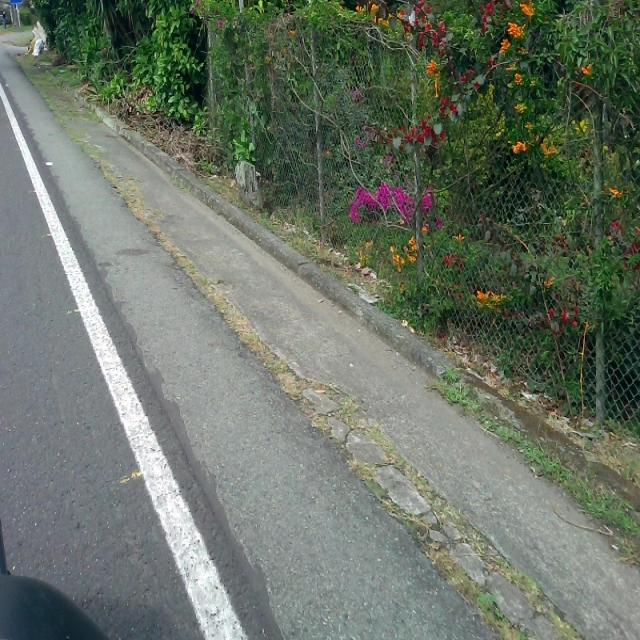DITCH: (2, 31, 637, 639), (1, 100, 638, 638)
